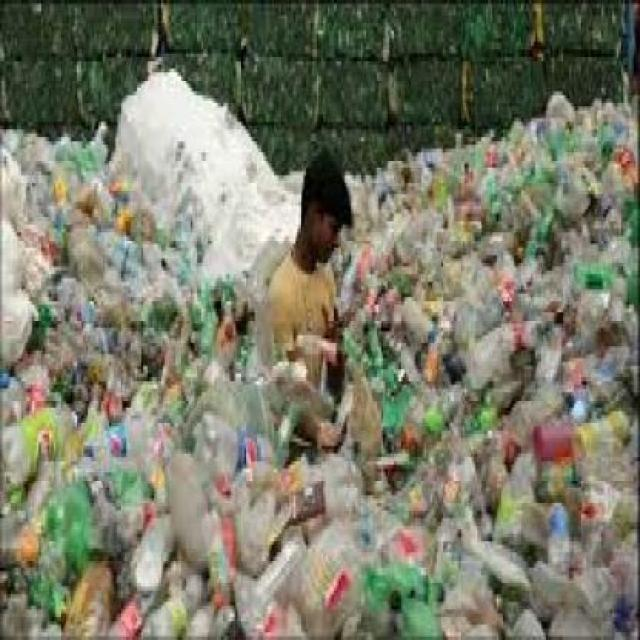garbage: (5, 46, 266, 629), (280, 313, 638, 629), (357, 103, 638, 312)
